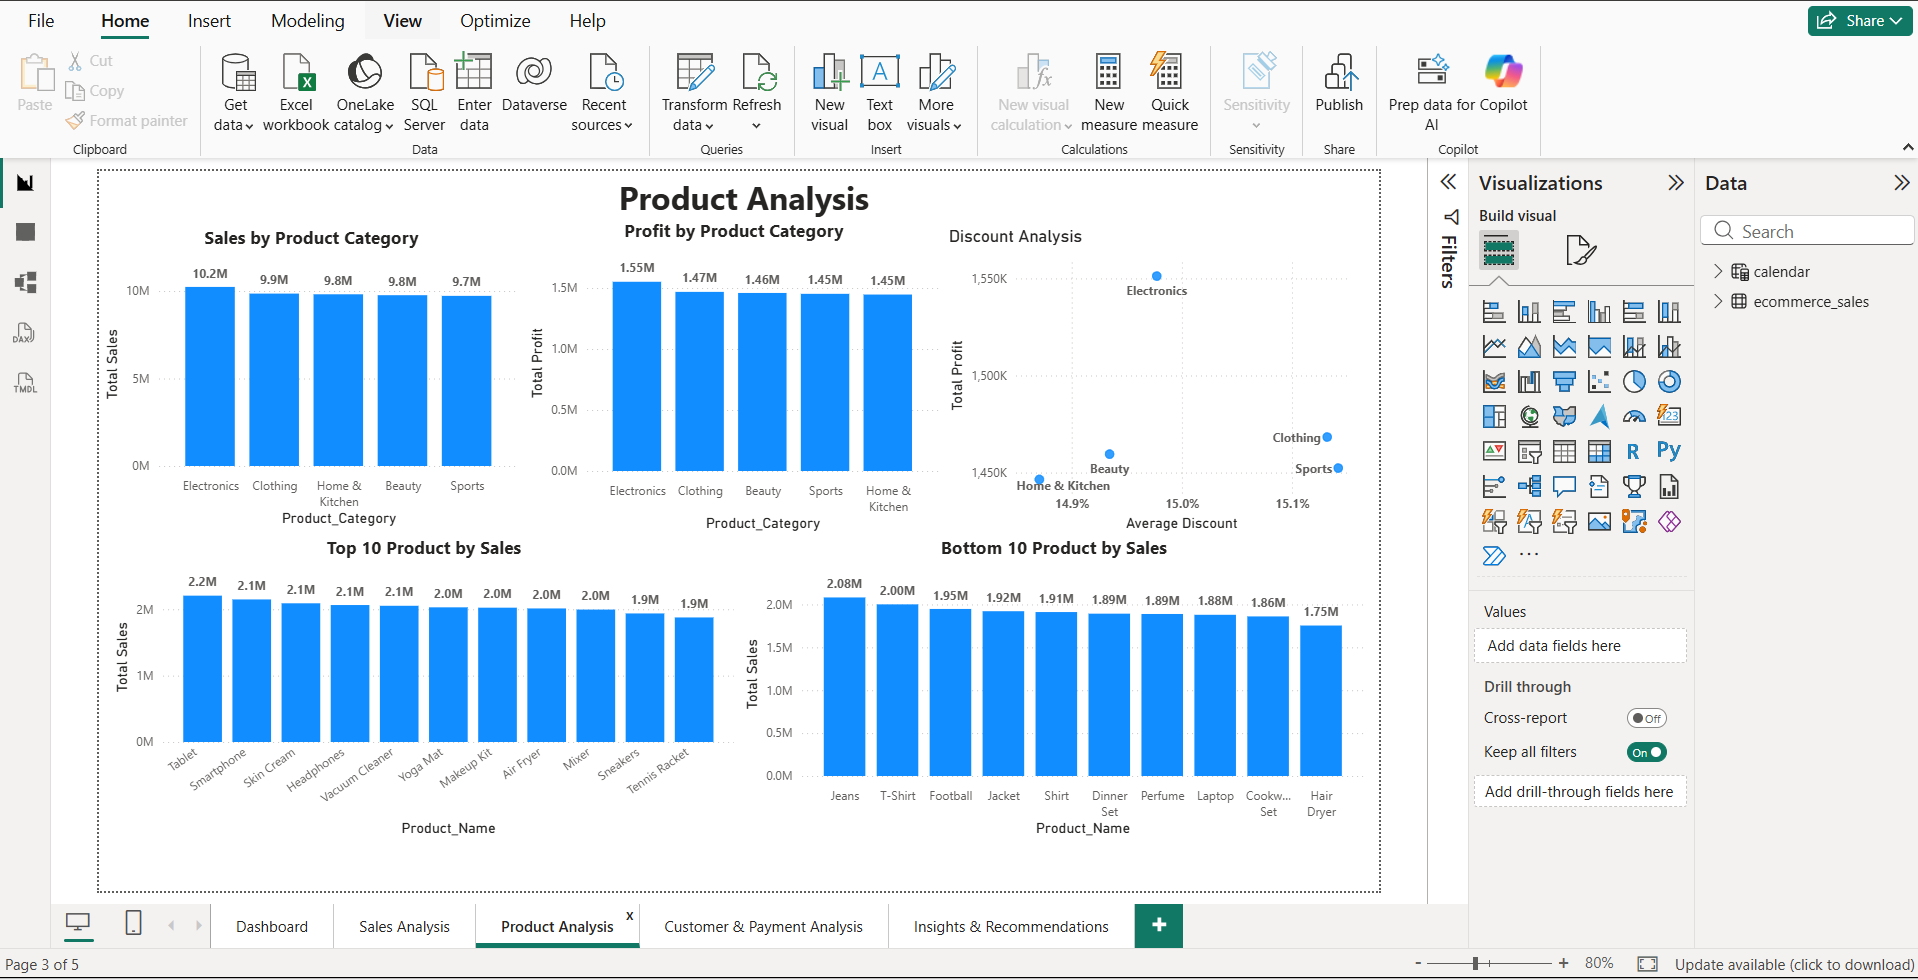

The dashboard page shown, as its layout file describes it:
{"tool":"powerbi","page":{"name":"Product Analysis","canvas":[1280,720],"ordinal":2},"visuals":[{"type":"textbox","box":[10,0,1270,55],"z":0},{"type":"columnChart","title":"Sales by Product Category","fields":{"Category":["ecommerce_sales.Product_Category"],"Y":["ecommerce_sales.Total Sales"]},"box":[0,55,425,305],"z":1000},{"type":"columnChart","title":"Profit by Product Category","fields":{"Category":["ecommerce_sales.Product_Category"],"Y":["ecommerce_sales.Total Profit"]},"box":[425,47.5,420,317.5],"z":2000},{"type":"scatterChart","title":"Discount Analysis","fields":{"X":["ecommerce_sales.Average Discount"],"Y":["ecommerce_sales.Total Profit"],"Category":["ecommerce_sales.Product_Category"]},"box":[845,55,426.2,310],"z":3000},{"type":"columnChart","title":"Top 10 Product by Sales ","fields":{"Category":["ecommerce_sales.Product_Name"],"Y":["ecommerce_sales.Total Sales"]},"box":[10,365,630,305],"z":4000},{"type":"columnChart","title":"Bottom 10 Product by Sales ","fields":{"Category":["ecommerce_sales.Product_Name"],"Y":["ecommerce_sales.Total Sales"]},"box":[640,365,630,305],"z":5000}]}

Visuals, with their boxes on the page's 1280x720 design canvas (x1, y1, x2, y2). These are canvas units, not pixel positions in the 1918x980 screenshot, which may show the page scaled, cropped or inside an application window:
textbox: region(10, 0, 1280, 55)
"Sales by Product Category" columnChart: region(0, 55, 425, 360)
"Profit by Product Category" columnChart: region(425, 48, 845, 365)
"Discount Analysis" scatterChart: region(845, 55, 1271, 365)
"Top 10 Product by Sales " columnChart: region(10, 365, 640, 670)
"Bottom 10 Product by Sales " columnChart: region(640, 365, 1270, 670)
